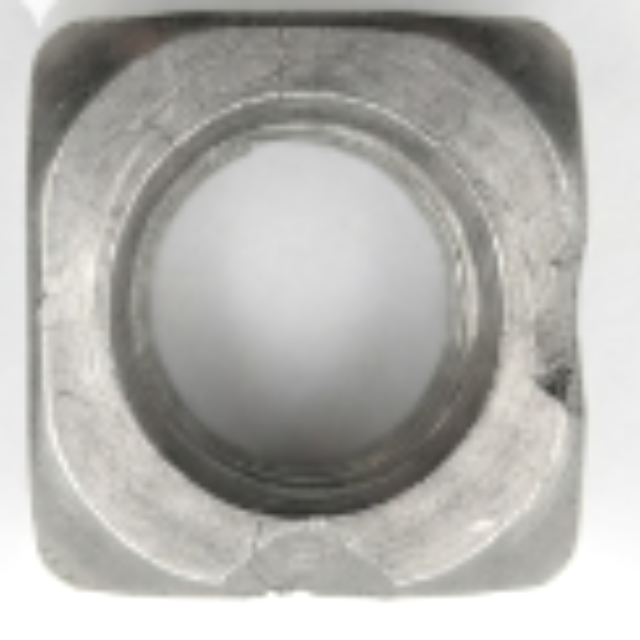defect: (208, 515, 403, 615), (524, 345, 598, 420)
